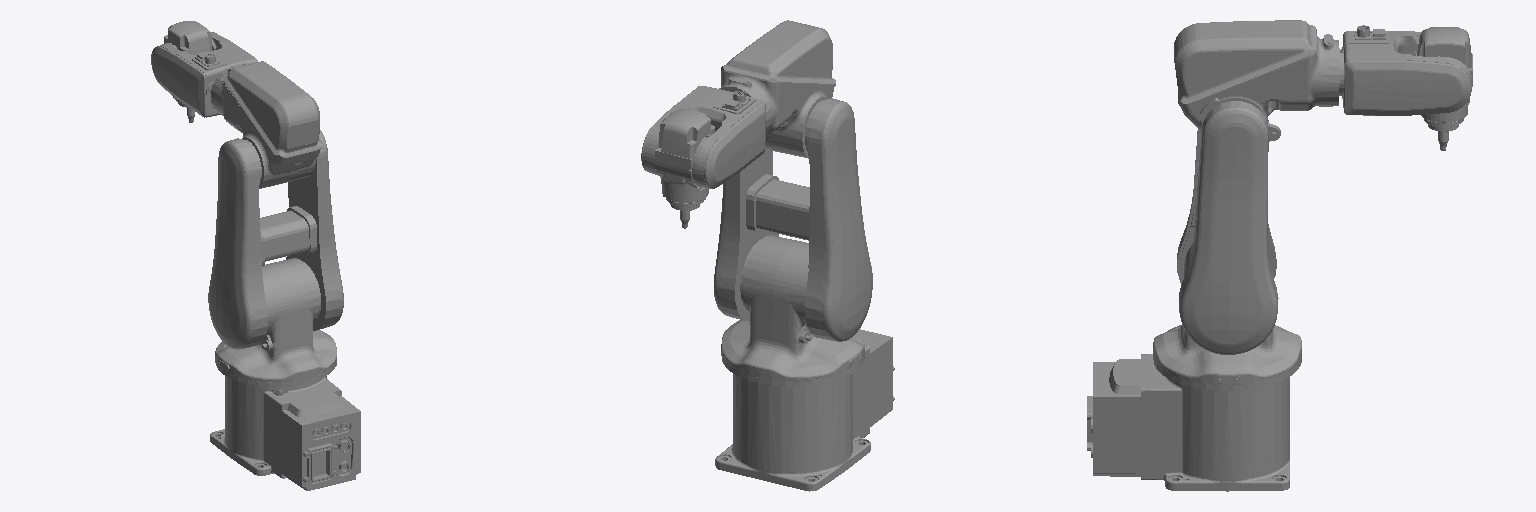
The robot description file, URDF, robot "irb_120_arm":
<?xml version="1.0" encoding="utf-8"?>
<!-- This URDF was automatically created by SolidWorks to URDF Exporter! Originally created by [author] ([email redacted]) 
     Commit Version: 1.6.0-4-g7f85cfe  Build Version: 1.6.7995.38578
     For more information, please see http://wiki.ros.org/sw_urdf_exporter -->
<robot
  name="irb_120_arm">
  
  <link name="world"/>
  <joint name="fixed" type="fixed">
    <parent link="world"/>
    <child link="base_link"/>
    <origin rpy="0 0 1.571" xyz="0.0 0.0 0.0"/>
  </joint>
  
  <link
    name="base_link">
    <inertial>
      <origin
        xyz="-0.0394564101883986 9.80526206739996E-05 0.0841960243844919"
        rpy="0 0 0" />
      <mass
        value="6.49690455185258" />
      <inertia
        ixx="0.0283253483378206"
        ixy="8.21558488245514E-05"
        ixz="-0.00236419677925828"
        iyy="0.0526541543206423"
        iyz="-3.24255398970675E-06"
        izz="0.0492023796521991" />
    </inertial>
    <visual>
      <origin
        xyz="0 0 0"
        rpy="0 0 0" />
      <geometry>
        <mesh
          filename="package://irb_120_arm/meshes/base_link.STL" />
      </geometry>
      <material
        name="">
        <color
          rgba="0.627450980392157 0.627450980392157 0.627450980392157 1" />
      </material>
    </visual>
    <collision>
      <origin
        xyz="0 0 0"
        rpy="0 0 0" />
      <geometry>
        <mesh
          filename="package://irb_120_arm/meshes/base_link.STL" />
      </geometry>
    </collision>
  </link>
  
  <link
    name="link_1">
    <inertial>
      <origin
        xyz="2.24813138507973E-07 6.60461437239357E-05 0.0994203451858565"
        rpy="0 0 0" />
      <mass
        value="2.80384556300396" />
      <inertia
        ixx="0.0120439297332374"
        ixy="-3.98994467283646E-08"
        ixz="-3.88412357120071E-08"
        iyy="0.0120196223339544"
        iyz="1.14508246894333E-05"
        izz="0.00855416548030085" />
    </inertial>
    <visual>
      <origin
        xyz="0 0 0"
        rpy="0 0 0" />
      <geometry>
        <mesh
          filename="package://irb_120_arm/meshes/link_1.STL" />
      </geometry>
      <material
        name="">
        <color
          rgba="0.627450980392157 0.627450980392157 0.627450980392157 1" />
      </material>
    </visual>
    <collision>
      <origin
        xyz="0 0 0"
        rpy="0 0 0" />
      <geometry>
        <mesh
          filename="package://irb_120_arm/meshes/link_1.STL" />
      </geometry>
    </collision>
  </link>
  <joint
    name="joint_1"
    type="revolute">
    <origin
      xyz="0 0 0.147"
      rpy="0 0 0.017453" />
    <parent
      link="base_link" />
    <child
      link="link_1" />
    <axis
      xyz="0 0 1" />
    <limit
      lower="-2.879"
      upper="2.879"
      effort="30"
      velocity="3" />
  </joint>
  <link
    name="link_2">
    <inertial>
      <origin
        xyz="0.000760880546593637 0.108231955553909 0.00189522689121943"
        rpy="0 0 0" />
      <mass
        value="3.9977105030265" />
      <inertia
        ixx="0.0634886092158393"
        ixy="-3.59622107958833E-05"
        ixz="9.09127357863172E-06"
        iyy="0.0259011454058795"
        iyz="-0.000335634273320829"
        izz="0.0448119028286137" />
    </inertial>
    <visual>
      <origin
        xyz="0 0 0"
        rpy="0 0 0" />
      <geometry>
        <mesh
          filename="package://irb_120_arm/meshes/link_2.STL" />
      </geometry>
      <material
        name="">
        <color
          rgba="0.627450980392157 0.627450980392157 0.627450980392157 1" />
      </material>
    </visual>
    <collision>
      <origin
        xyz="0 0 0"
        rpy="0 0 0" />
      <geometry>
        <mesh
          filename="package://irb_120_arm/meshes/link_2.STL" />
      </geometry>
    </collision>
  </link>
  <joint
    name="joint_2"
    type="revolute">
    <origin
      xyz="0 0 0.143"
      rpy="1.5708 -0.036415 3.1416" />
    <parent
      link="link_1" />
    <child
      link="link_2" />
    <axis
      xyz="0 0 1" />
    <limit
      lower="-1.919"
      upper="1.919"
      effort="30"
      velocity="3" />
  </joint>
  <link
    name="link_3">
    <inertial>
      <origin
        xyz="-0.0228405769824482 0.060617722651188 -0.00860164750048098"
        rpy="0 0 0" />
      <mass
        value="2.76959626543622" />
      <inertia
        ixx="0.00770615498635455"
        ixy="0.00121351382279735"
        ixz="-6.56112016731694E-05"
        iyy="0.0119954359890419"
        iyz="0.000151031018850409"
        izz="0.0156487278211938" />
    </inertial>
    <visual>
      <origin
        xyz="0 0 0"
        rpy="0 0 0" />
      <geometry>
        <mesh
          filename="package://irb_120_arm/meshes/link_3.STL" />
      </geometry>
      <material
        name="">
        <color
          rgba="0.627450980392157 0.627450980392157 0.627450980392157 1" />
      </material>
    </visual>
    <collision>
      <origin
        xyz="0 0 0"
        rpy="0 0 0" />
      <geometry>
        <mesh
          filename="package://irb_120_arm/meshes/link_3.STL" />
      </geometry>
    </collision>
  </link>
  <joint
    name="joint_3"
    type="revolute">
    <origin
      xyz="0 0.27 0"
      rpy="0 0 -0.021934" />
    <parent
      link="link_2" />
    <child
      link="link_3" />
    <axis
      xyz="0 0 -1" />
    <limit
      lower="-1.919"
      upper="1.221"
      effort="30"
      velocity="3" />
  </joint>
  <link
    name="link_4">
    <inertial>
      <origin
        xyz="-0.0986970887033946 0.000379580546909342 0.000211962449276071"
        rpy="0 0 0" />
      <mass
        value="1.3383417315645" />
      <inertia
        ixx="0.00281152690241328"
        ixy="-1.44140349077543E-05"
        ixz="-1.5969524558929E-05"
        iyy="0.00535957966014033"
        iyz="-1.28656743815271E-05"
        izz="0.00414855843125605" />
    </inertial>
    <visual>
      <origin
        xyz="0 0 0"
        rpy="0 0 0" />
      <geometry>
        <mesh
          filename="package://irb_120_arm/meshes/link_4.STL" />
      </geometry>
      <material
        name="">
        <color
          rgba="0.627450980392157 0.627450980392157 0.627450980392157 1" />
      </material>
    </visual>
    <collision>
      <origin
        xyz="0 0 0"
        rpy="0 0 0" />
      <geometry>
        <mesh
          filename="package://irb_120_arm/meshes/link_4.STL" />
      </geometry>
    </collision>
  </link>
  <joint
    name="joint_4"
    type="revolute">
    <origin
      xyz="-0.1231 0.07 -0.0095"
      rpy="0.02618 0 0" />
    <parent
      link="link_3" />
    <child
      link="link_4" />
    <axis
      xyz="-1 0 0" />
    <limit
      lower="-2.792"
      upper="2.792"
      effort="30"
      velocity="3" />
  </joint>
  <link
    name="link_5">
    <inertial>
      <origin
        xyz="-0.000720593608258713 6.1441632035919E-05 1.69265462482138E-05"
        rpy="0 0 0" />
      <mass
        value="0.576051338793126" />
      <inertia
        ixx="0.000426758922234437"
        ixy="8.38395301999328E-07"
        ixz="1.28189307707151E-06"
        iyy="0.000902913006046663"
        iyz="-3.02730352420694E-08"
        izz="0.000962695885468608" />
    </inertial>
    <visual>
      <origin
        xyz="0 0 0"
        rpy="0 0 0" />
      <geometry>
        <mesh
          filename="package://irb_120_arm/meshes/link_5.STL" />
      </geometry>
      <material
        name="">
        <color
          rgba="0.627450980392157 0.627450980392157 0.627450980392157 1" />
      </material>
    </visual>
    <collision>
      <origin
        xyz="0 0 0"
        rpy="0 0 0" />
      <geometry>
        <mesh
          filename="package://irb_120_arm/meshes/link_5.STL" />
      </geometry>
    </collision>
  </link>
  <joint
    name="joint_5"
    type="revolute">
    <origin
      xyz="-0.1789 0 0"
      rpy="0 0 1.5708" />
    <parent
      link="link_4" />
    <child
      link="link_5" />
    <axis
      xyz="0 0 1" />
    <limit
      lower="-2.094"
      upper="2.094"
      effort="30"
      velocity="3" />
  </joint>
  <link
    name="end_effector">
    <inertial>
      <origin
        xyz="-0.0169363221857243 -0.000443645088158195 -0.000443493197877787"
        rpy="0 0 0" />
      <mass
        value="0.0302455990975448" />
      <inertia
        ixx="9.64620563295697E-06"
        ixy="2.85807836574173E-08"
        ixz="2.85708554201054E-08"
        iyy="8.55587760602904E-06"
        iyz="7.48414387458408E-10"
        izz="8.55587708471439E-06" />
    </inertial>
    <visual>
      <origin
        xyz="0 0 0"
        rpy="0 0 0" />
      <geometry>
        <mesh
          filename="package://irb_120_arm/meshes/end_effector.STL" />
      </geometry>
      <material
        name="">
        <color
          rgba="0.627450980392157 0.627450980392157 0.627450980392157 1" />
      </material>
    </visual>
    <collision>
      <origin
        xyz="0 0 0"
        rpy="0 0 0" />
      <geometry>
        <mesh
          filename="package://irb_120_arm/meshes/end_effector.STL" />
      </geometry>
    </collision>
  </link>
  <joint
    name="joint_6"
    type="revolute">
    <origin
      xyz="-0.061534 0 0"
      rpy="-2.1227 -0.03602 -0.0085566" />
    <parent
      link="link_5" />
    <child
      link="end_effector" />
    <axis
      xyz="-0.99931 -0.026177 -0.026168" />
    <limit
      lower="-6.981"
      upper="6.981"
      effort="30"
      velocity="3" />
  </joint>

  <transmission name ="trans_1">
    <type>transmission_interface/SimpleTransmission</type>
    <joint name="joint_1">
        <hardwareInterface>hardware_interface/PositionJointInterface</hardwareInterface>
    </joint>
    <actuator name="motor_1">
        <hardwareInterface>hardware_interface/PositionJointInterface</hardwareInterface>
        <mechanicalReduction>1</mechanicalReduction>
    </actuator>
</transmission>

<transmission name ="trans_2">
    <type>transmission_interface/SimpleTransmission</type>
    <joint name="joint_2">
        <hardwareInterface>hardware_interface/PositionJointInterface</hardwareInterface>
    </joint>
    <actuator name="motor_2">
        <hardwareInterface>hardware_interface/PositionJointInterface</hardwareInterface>
        <mechanicalReduction>1</mechanicalReduction>
    </actuator>
</transmission>

<transmission name ="trans_3">
    <type>transmission_interface/SimpleTransmission</type>
    <joint name="joint_3">
        <hardwareInterface>hardware_interface/PositionJointInterface</hardwareInterface>
    </joint>
    <actuator name="motor_3">
        <hardwareInterface>hardware_interface/PositionJointInterface</hardwareInterface>
        <mechanicalReduction>1</mechanicalReduction>
    </actuator>
</transmission>

<transmission name ="trans_4">
    <type>transmission_interface/SimpleTransmission</type>
    <joint name="joint_4">
        <hardwareInterface>hardware_interface/PositionJointInterface</hardwareInterface>
    </joint>
    <actuator name="motor_4">
        <hardwareInterface>hardware_interface/PositionJointInterface</hardwareInterface>
        <mechanicalReduction>1</mechanicalReduction>
    </actuator>
</transmission>

<transmission name ="trans_5">
    <type>transmission_interface/SimpleTransmission</type>
    <joint name="joint_5">
        <hardwareInterface>hardware_interface/PositionJointInterface</hardwareInterface>
    </joint>
    <actuator name="motor_5">
        <hardwareInterface>hardware_interface/PositionJointInterface</hardwareInterface>
        <mechanicalReduction>1</mechanicalReduction>
    </actuator>
</transmission>

<transmission name ="trans_6">
    <type>transmission_interface/SimpleTransmission</type>
    <joint name="joint_6">
        <hardwareInterface>hardware_interface/PositionJointInterface</hardwareInterface>
    </joint>
    <actuator name="motor_6">
        <hardwareInterface>hardware_interface/PositionJointInterface</hardwareInterface>
        <mechanicalReduction>1</mechanicalReduction>
    </actuator>
</transmission>

<gazebo>
    <plugin name="control" filename="libgazebo_ros_control.so"/>
</gazebo>


<gazebo reference="base_link">
	<selfcollide>true</selfcollide>
</gazebo>

<gazebo reference="link_1">
	<selfcollide>true</selfcollide>
</gazebo>

<gazebo reference="link_2">
	<selfcollide>true</selfcollide>
</gazebo>

<gazebo reference="link_3">
	<selfcollide>true</selfcollide>
</gazebo>

<gazebo reference="link_4">
	<selfcollide>true</selfcollide>
</gazebo>

<gazebo reference="link_5">
	<selfcollide>true</selfcollide>
</gazebo>

<gazebo reference="end_effector">
	<selfcollide>true</selfcollide>
</gazebo>

<gazebo reference="base_link">
	<material>Gazebo/Orange</material>
</gazebo>

<gazebo reference="link_1">
	<material>Gazebo/Orange</material>
</gazebo>

<gazebo reference="link_2">
	<material>Gazebo/Orange</material>
</gazebo>

<gazebo reference="link_3">
	<material>Gazebo/Orange</material>
</gazebo>

<gazebo reference="link_4">
	<material>Gazebo/Orange</material>
</gazebo>

<gazebo reference="link_5">
	<material>Gazebo/Orange</material>
</gazebo>

<gazebo reference="end_effector">
	<material>Gazebo/Orange</material>
</gazebo>

</robot>

--- Facts derived from the render (not from the file) ---
Views: 3 orthographic renders of the robot side by side, from view 1: azimuth 30°, elevation 25°; view 2: azimuth 150°, elevation 25°; view 3: azimuth 270°, elevation 25°.
Model irb_120_arm with 8 links and 7 joints (6 revolute, 1 fixed), rooted at world, posed all joints at 0.
Links seen in each view (by area): view 1: link_2, base_link, link_3, link_1, link_4, link_5; view 2: link_2, base_link, link_1, link_3, link_4, link_5; view 3: base_link, link_2, link_3, link_4, link_1, link_5.
Boxes of the visible links, <box> form: link_2: <box>208,130,343,349</box>; base_link: <box>210,359,360,490</box>; link_3: <box>211,61,322,188</box>; link_1: <box>215,258,336,382</box>; link_4: <box>151,32,257,117</box>; link_5: <box>164,21,212,98</box>; link_2: <box>714,98,872,341</box>; base_link: <box>715,329,894,491</box>; link_1: <box>721,235,864,381</box>; link_3: <box>719,20,835,158</box>; link_4: <box>641,86,765,188</box>; link_5: <box>655,109,714,203</box>; base_link: <box>1087,354,1301,491</box>; link_2: <box>1177,101,1278,354</box>; link_3: <box>1174,20,1339,141</box>; link_4: <box>1339,25,1472,115</box>; link_1: <box>1153,244,1301,384</box>; link_5: <box>1416,27,1472,123</box>.
Bounding box of the posed robot: 0.2192 × 0.5583 × 0.6984 m (x, y, z).
7 mesh visuals loaded from 7 distinct referenced files (7 binary STL).